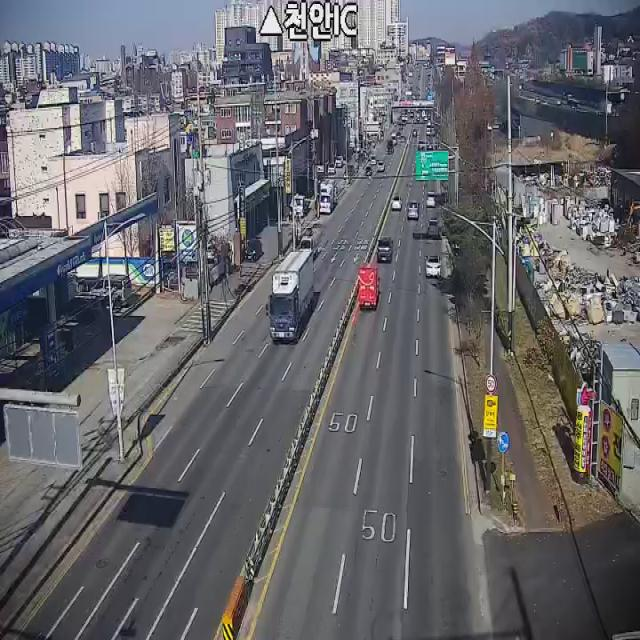Car: (96, 271, 133, 306), (300, 223, 322, 261), (376, 237, 394, 263), (425, 252, 442, 278), (245, 236, 263, 260), (427, 217, 440, 239), (406, 201, 419, 221), (426, 191, 436, 208), (392, 194, 402, 211)
Truck: (266, 252, 314, 342), (359, 264, 380, 312), (319, 178, 337, 214)
